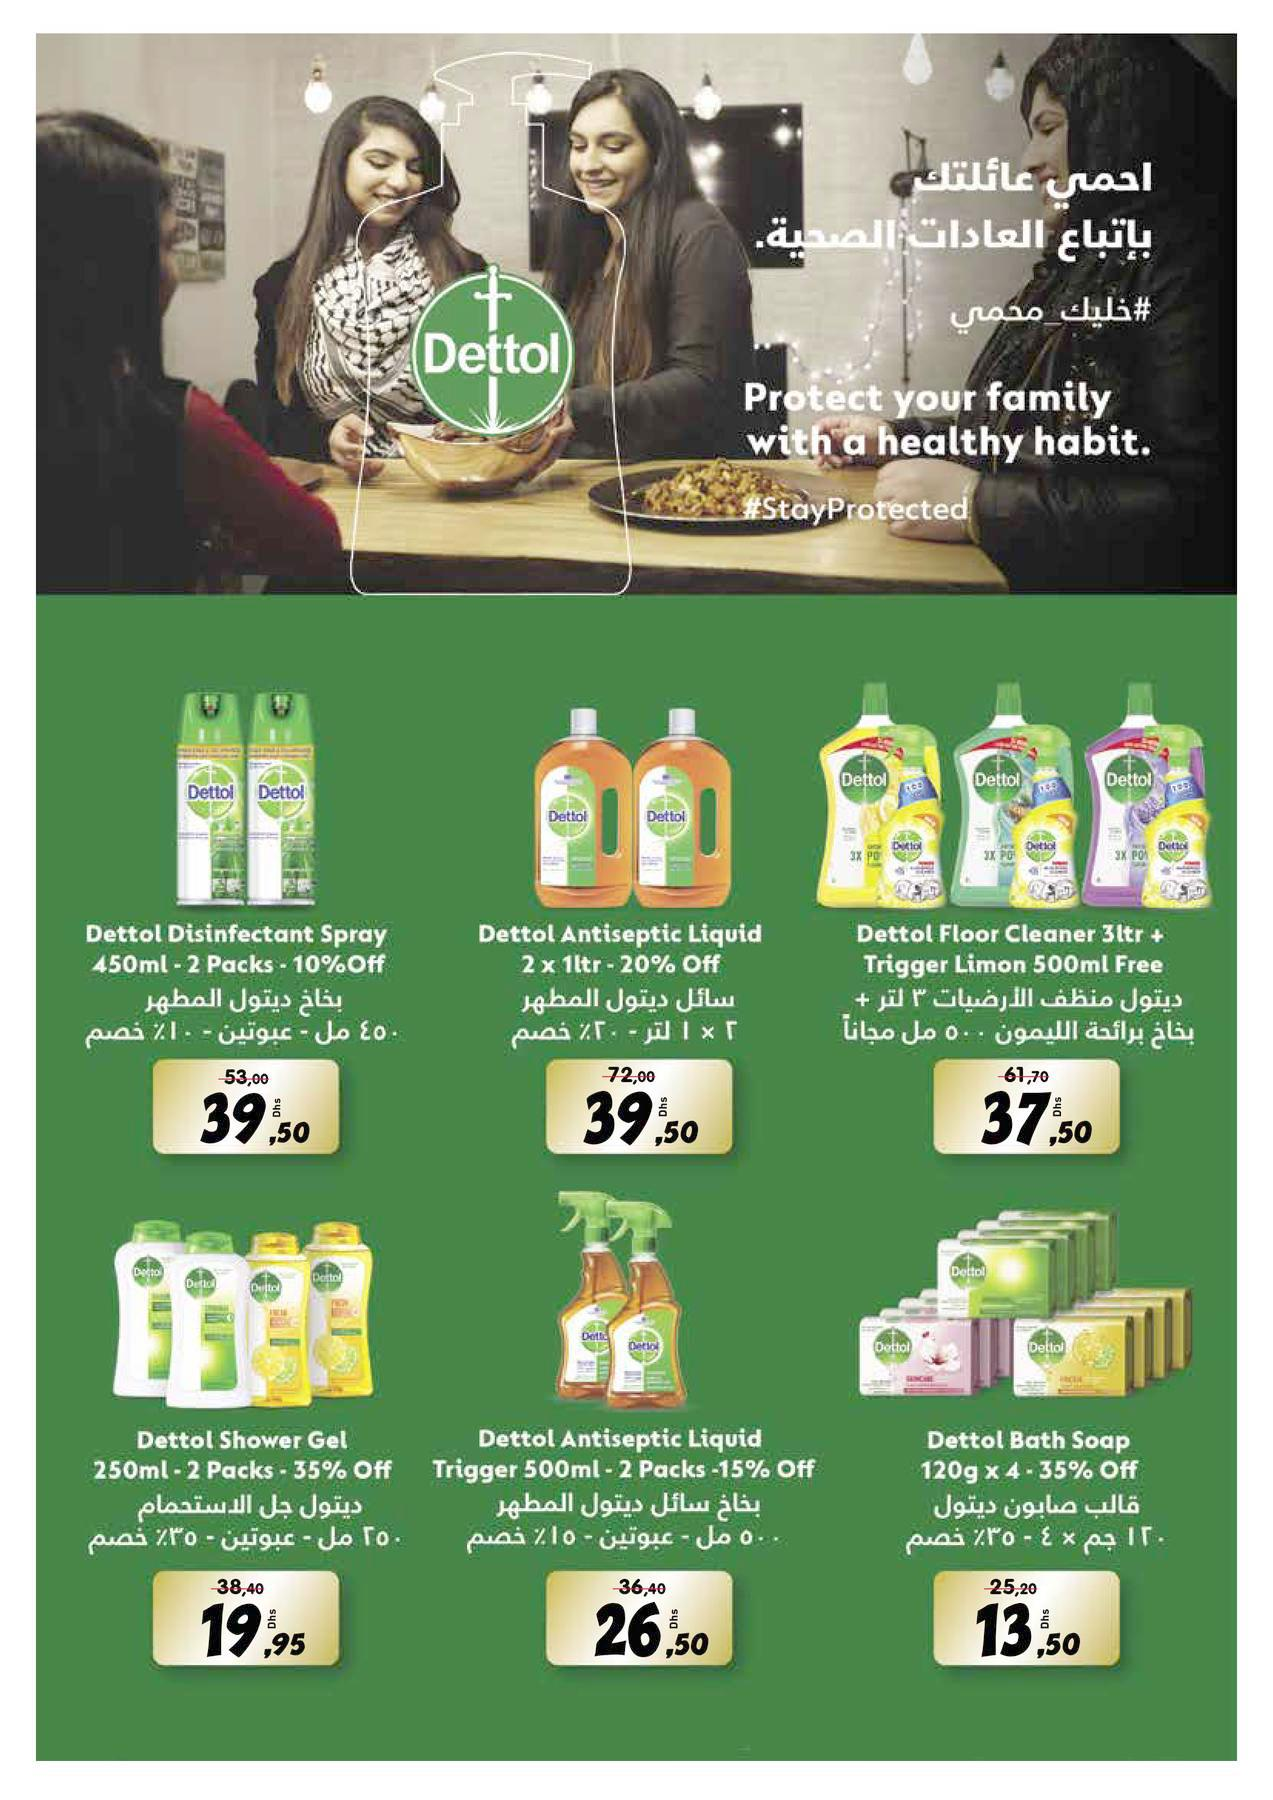text: (422, 1417, 838, 1486), (816, 983, 1208, 1054), (446, 1485, 806, 1556), (79, 981, 415, 1054), (462, 914, 791, 987), (85, 1419, 402, 1487), (849, 916, 1183, 981), (873, 1487, 1183, 1556), (72, 920, 411, 978), (486, 985, 765, 1049), (898, 1423, 1160, 1487)
